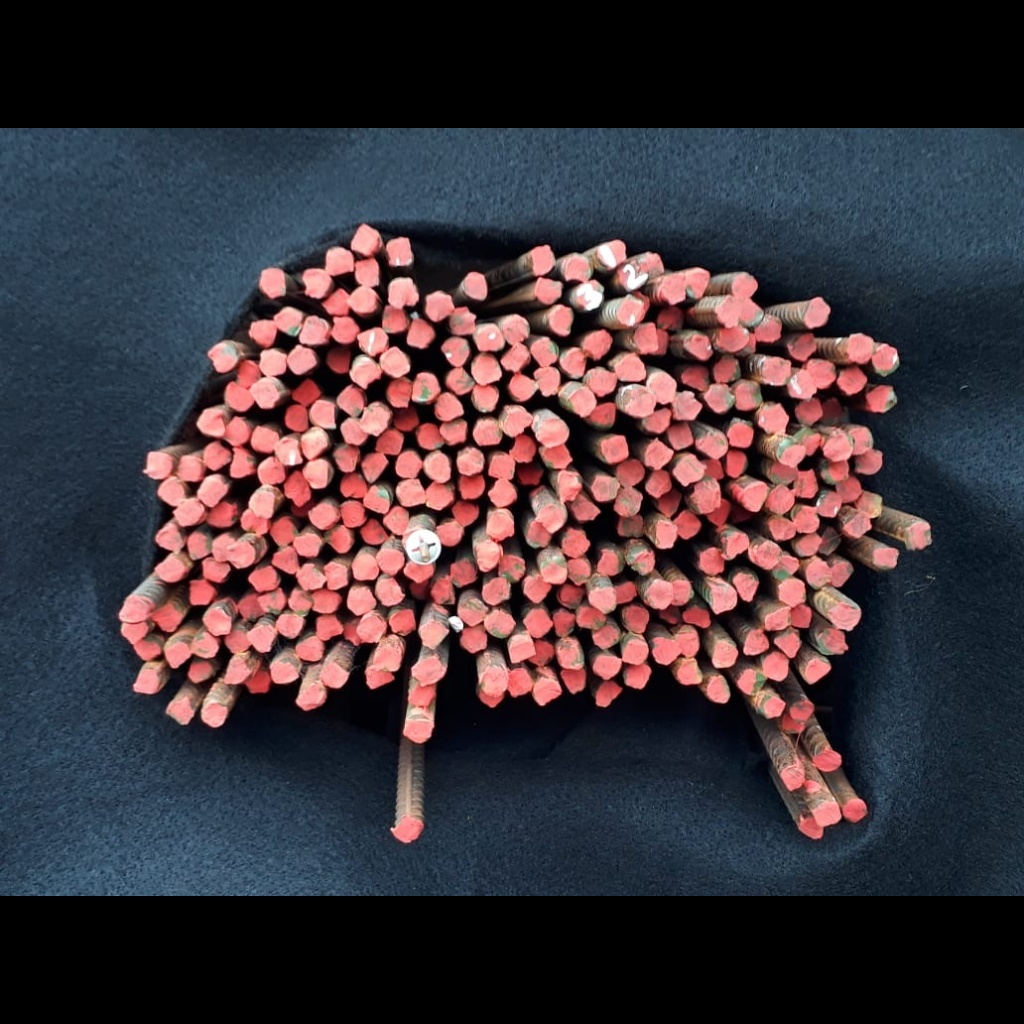dipstick: (620, 385, 656, 416), (694, 427, 728, 459), (617, 257, 649, 290), (690, 476, 720, 511), (349, 355, 379, 388), (470, 353, 501, 384), (646, 372, 677, 403), (805, 358, 836, 389), (299, 315, 331, 345), (411, 658, 446, 685), (387, 277, 417, 308), (536, 418, 569, 446), (284, 470, 311, 504), (715, 325, 749, 352), (303, 268, 333, 298), (225, 382, 255, 412), (538, 503, 568, 533), (302, 459, 333, 488), (613, 486, 642, 517), (674, 455, 705, 484), (295, 682, 327, 710), (759, 357, 791, 385), (873, 344, 900, 377), (828, 603, 861, 630), (274, 307, 304, 336), (208, 342, 237, 372), (361, 406, 390, 436), (197, 477, 227, 506), (325, 524, 355, 553), (424, 291, 453, 321), (420, 620, 450, 649), (523, 608, 552, 638), (498, 553, 527, 583), (651, 636, 681, 665), (758, 405, 788, 434), (765, 484, 794, 514), (381, 347, 409, 378), (457, 598, 488, 626), (556, 638, 584, 669), (501, 345, 532, 373), (823, 433, 854, 461), (309, 503, 341, 530), (540, 444, 573, 470), (322, 288, 351, 317), (485, 512, 514, 541), (509, 433, 538, 462), (626, 545, 655, 574), (352, 224, 380, 254), (358, 327, 388, 355), (347, 585, 375, 615), (375, 578, 405, 606), (474, 323, 504, 351), (588, 366, 616, 396), (719, 531, 749, 559), (704, 384, 734, 412), (734, 379, 762, 409), (837, 367, 867, 395), (301, 427, 328, 458), (174, 499, 205, 526), (424, 451, 451, 482), (840, 510, 871, 537), (716, 296, 742, 328), (326, 246, 354, 275), (287, 346, 316, 374), (203, 442, 232, 470), (158, 477, 186, 506), (154, 604, 183, 632), (223, 625, 251, 654), (357, 615, 386, 643), (434, 393, 463, 421), (533, 677, 562, 705), (562, 529, 590, 558), (529, 337, 558, 365), (534, 277, 563, 305), (575, 281, 604, 309), (583, 330, 611, 359), (598, 240, 626, 269), (646, 580, 674, 609), (787, 369, 816, 397), (777, 577, 805, 606), (772, 630, 801, 658), (259, 267, 286, 297), (337, 386, 364, 416), (226, 541, 256, 568), (339, 471, 369, 498), (617, 295, 644, 325), (616, 355, 646, 382), (508, 374, 539, 400), (248, 566, 280, 591), (155, 557, 187, 582), (363, 451, 388, 483), (633, 322, 658, 354), (247, 625, 275, 653), (425, 481, 453, 509), (489, 478, 517, 506), (524, 574, 552, 602), (565, 254, 593, 282), (673, 391, 701, 419), (793, 427, 821, 455), (385, 237, 412, 266), (257, 457, 286, 484), (412, 373, 439, 402), (407, 319, 434, 348), (442, 337, 469, 366), (396, 479, 425, 506), (457, 446, 484, 475), (557, 580, 584, 609), (473, 418, 502, 445), (740, 483, 767, 512), (867, 385, 896, 412), (754, 541, 781, 570), (250, 382, 280, 408), (240, 509, 270, 535), (165, 698, 195, 724), (383, 506, 409, 536), (503, 314, 529, 344), (804, 297, 830, 327), (767, 460, 797, 486), (120, 597, 151, 622), (311, 589, 342, 614), (484, 612, 515, 637), (685, 268, 710, 299), (848, 333, 873, 364), (531, 245, 555, 277), (676, 624, 699, 657), (249, 320, 277, 347), (340, 418, 368, 445), (270, 518, 297, 546), (272, 547, 299, 575), (203, 608, 231, 635), (377, 549, 405, 576), (395, 451, 422, 479), (482, 578, 510, 605), (569, 388, 596, 416), (597, 548, 625, 575), (762, 652, 789, 680), (788, 332, 815, 360), (292, 379, 321, 405), (196, 410, 225, 436), (230, 449, 256, 478), (476, 543, 502, 572), (570, 495, 599, 521), (560, 348, 586, 377), (733, 572, 759, 601), (819, 457, 848, 483), (224, 417, 249, 447), (269, 659, 299, 684), (386, 378, 411, 408), (503, 411, 533, 436), (739, 297, 764, 327), (622, 664, 652, 689), (333, 444, 360, 471), (360, 517, 387, 544), (472, 384, 499, 411), (685, 332, 712, 359), (645, 441, 672, 468), (726, 421, 753, 448), (792, 505, 819, 532), (260, 348, 286, 376), (325, 345, 351, 373), (146, 451, 172, 479), (321, 662, 349, 688), (297, 563, 325, 589), (390, 607, 416, 635), (416, 423, 444, 449), (541, 556, 567, 584), (712, 356, 740, 382), (600, 436, 628, 462), (616, 459, 644, 485), (588, 587, 616, 613), (622, 638, 648, 666), (621, 606, 649, 632), (674, 510, 700, 538), (646, 470, 672, 498), (776, 438, 804, 464), (348, 287, 377, 312), (311, 400, 336, 429), (156, 526, 185, 551), (225, 660, 254, 685), (295, 636, 324, 661), (558, 471, 583, 500), (657, 488, 682, 517), (549, 305, 573, 335), (402, 560, 434, 582), (332, 316, 359, 342), (316, 614, 343, 640), (237, 594, 263, 621), (259, 588, 286, 614), (352, 554, 378, 581), (376, 429, 403, 455), (446, 368, 473, 394), (452, 500, 479, 526), (592, 475, 619, 501), (592, 625, 619, 651), (594, 680, 620, 707), (710, 586, 736, 613), (795, 399, 822, 425), (856, 491, 882, 518), (904, 521, 931, 547), (806, 657, 832, 684), (235, 360, 260, 388), (177, 456, 205, 481), (207, 501, 235, 526), (293, 532, 321, 557), (364, 485, 389, 513), (439, 419, 467, 444), (395, 817, 423, 842), (508, 638, 536, 663), (656, 306, 684, 331), (577, 605, 605, 630), (854, 448, 882, 473), (806, 559, 830, 588), (810, 801, 840, 824), (251, 425, 277, 451), (276, 438, 302, 464), (374, 646, 400, 672), (393, 406, 419, 432), (437, 521, 463, 547), (699, 548, 725, 574), (382, 305, 407, 332), (192, 632, 219, 657), (451, 560, 476, 587), (508, 668, 533, 695), (461, 628, 488, 653), (559, 668, 586, 693), (661, 277, 686, 304), (737, 669, 764, 694), (816, 490, 841, 517), (355, 259, 379, 287), (202, 557, 230, 581), (324, 561, 348, 589), (593, 654, 621, 678), (817, 629, 845, 653), (464, 271, 487, 300), (654, 520, 677, 549), (404, 721, 434, 743), (726, 448, 748, 478), (819, 526, 841, 556), (249, 492, 274, 518), (188, 580, 214, 605), (341, 501, 366, 527), (449, 308, 475, 333), (756, 315, 781, 341), (591, 402, 616, 428), (668, 423, 693, 449), (284, 404, 308, 431), (201, 703, 228, 727), (458, 475, 485, 499), (529, 639, 553, 666), (527, 521, 551, 548), (534, 367, 558, 394), (682, 365, 709, 389), (742, 631, 769, 655), (643, 408, 670, 432), (794, 470, 818, 497), (773, 555, 800, 579), (552, 608, 575, 636), (165, 643, 190, 668), (482, 669, 507, 694), (836, 476, 861, 501), (187, 533, 211, 559), (431, 578, 455, 604), (489, 455, 515, 479), (733, 271, 757, 297), (677, 658, 701, 684), (277, 614, 304, 637), (850, 426, 873, 453), (794, 533, 821, 556), (121, 621, 149, 643), (187, 659, 215, 681), (366, 667, 395, 688), (515, 463, 544, 484), (212, 532, 232, 562), (712, 642, 736, 667), (707, 499, 731, 524), (769, 516, 795, 539), (682, 606, 710, 627), (813, 750, 841, 771), (246, 669, 270, 693), (288, 589, 312, 613), (781, 766, 804, 791), (760, 696, 786, 718), (707, 675, 728, 702), (135, 670, 159, 693), (831, 562, 853, 587), (408, 686, 436, 705), (613, 582, 637, 604), (765, 608, 790, 629), (134, 640, 160, 660), (821, 395, 843, 418), (790, 699, 813, 721), (618, 516, 643, 536), (672, 579, 692, 604), (844, 800, 866, 822), (789, 605, 810, 627), (874, 547, 897, 567), (799, 818, 822, 838), (781, 714, 804, 733)
